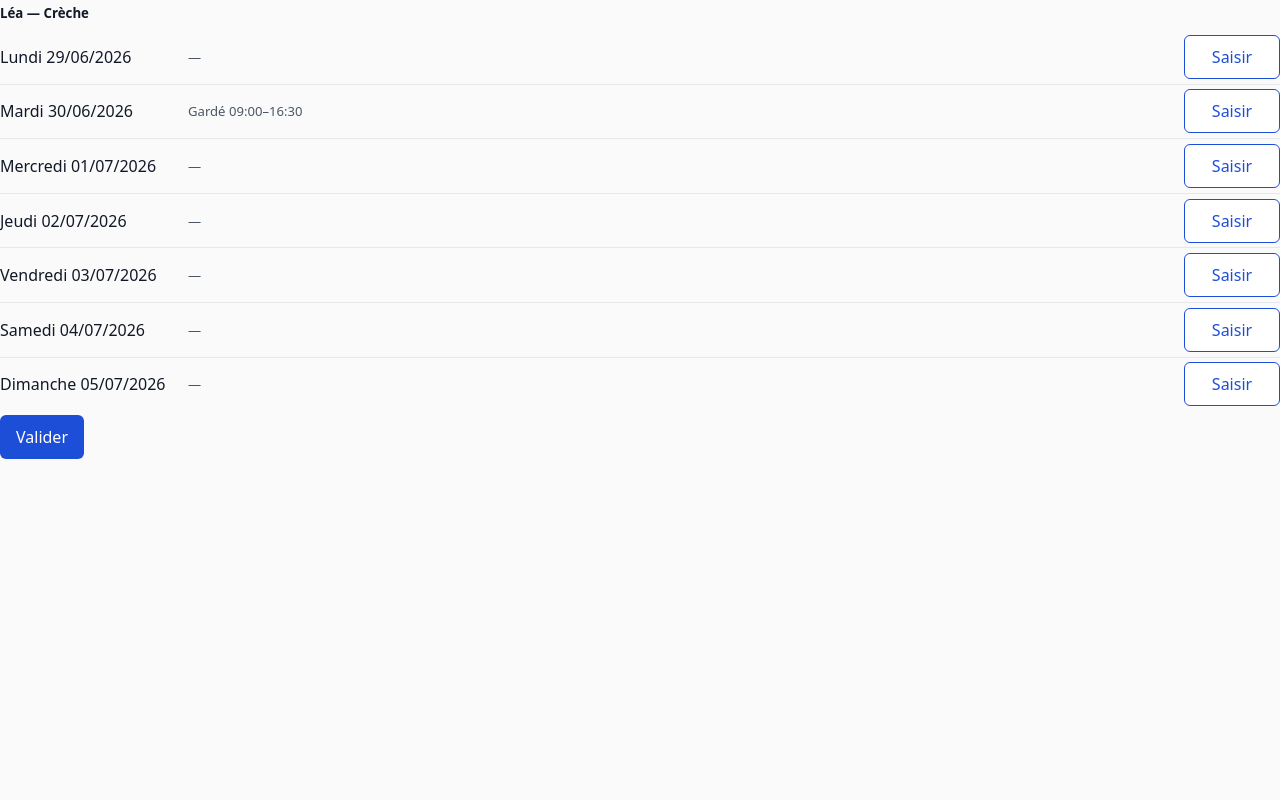
EditeurContratSemaine (crèche PSU) › « Absent toute la journée » écrit une absence pleine plage de contrat
Step 1. Click the button with aria-label "Saisir le Mardi 30/06/2026" → coordinates (1232, 111), box top-left (1184, 89), bottom-right (1279, 133)
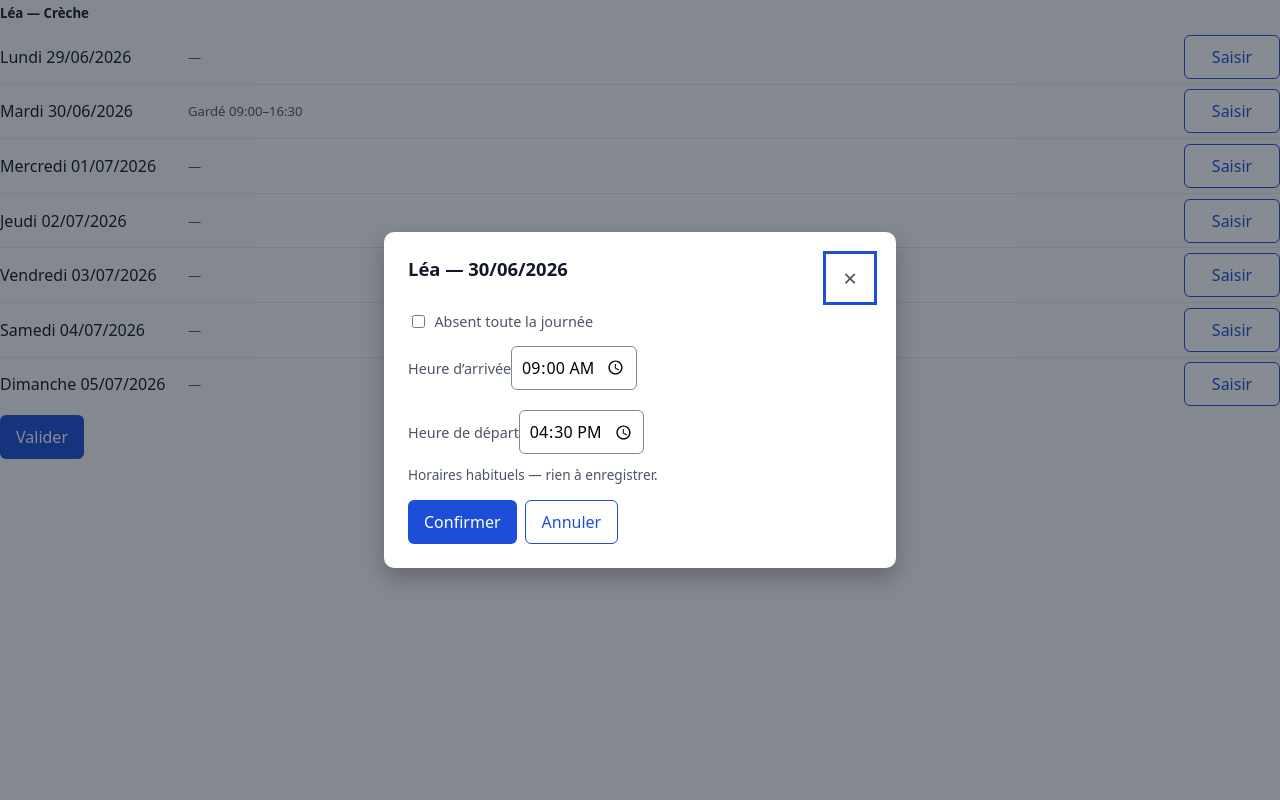
Step 2. Click the checkbox labelled "Absent toute la journée" → coordinates (418, 322), box top-left (412, 315), bottom-right (425, 328)
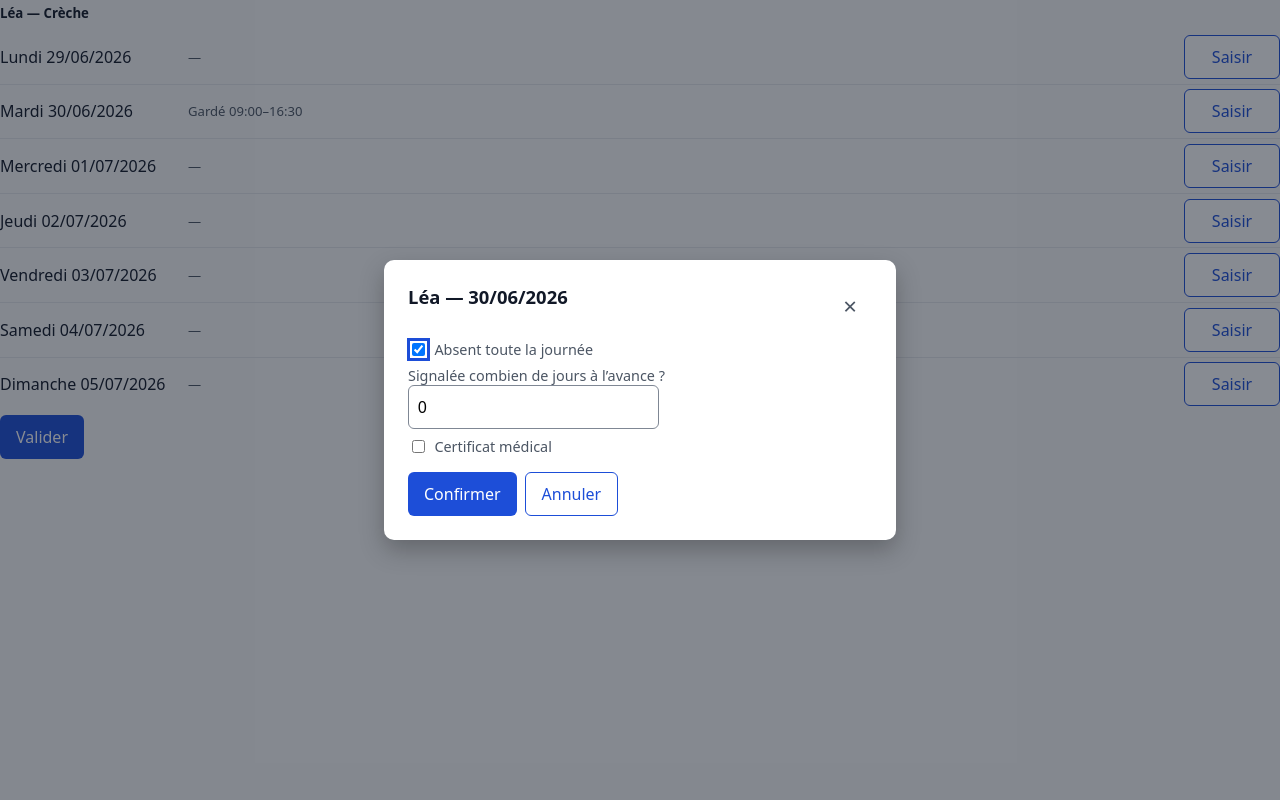
Result: the label labelled "Heure d’arrivée" is gone
Step 3. Replace the text in the number field labelled "Signalée combien de jours à l’avance ?" with "3" → coordinates (533, 407), box top-left (408, 385), bottom-right (659, 429)
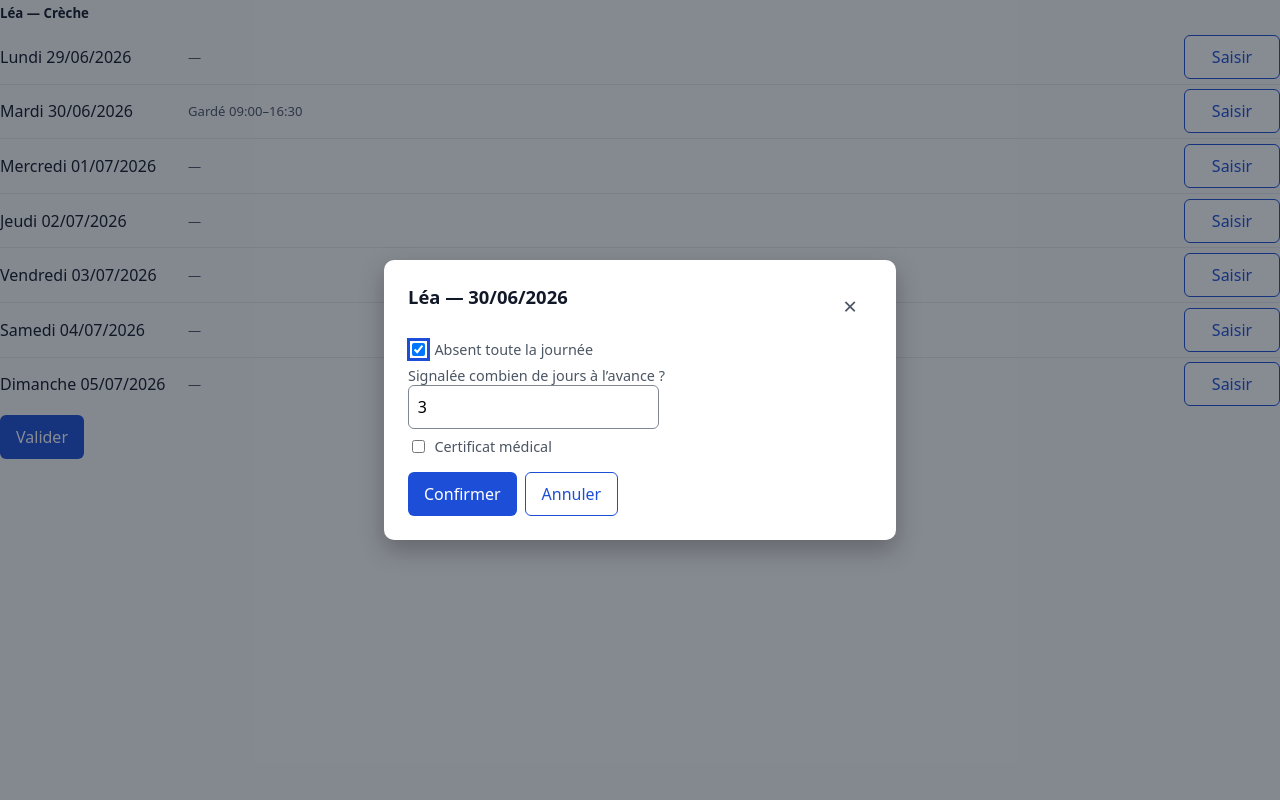
Step 4. Click the checkbox labelled "Certificat médical" → coordinates (418, 446), box top-left (412, 440), bottom-right (425, 453)
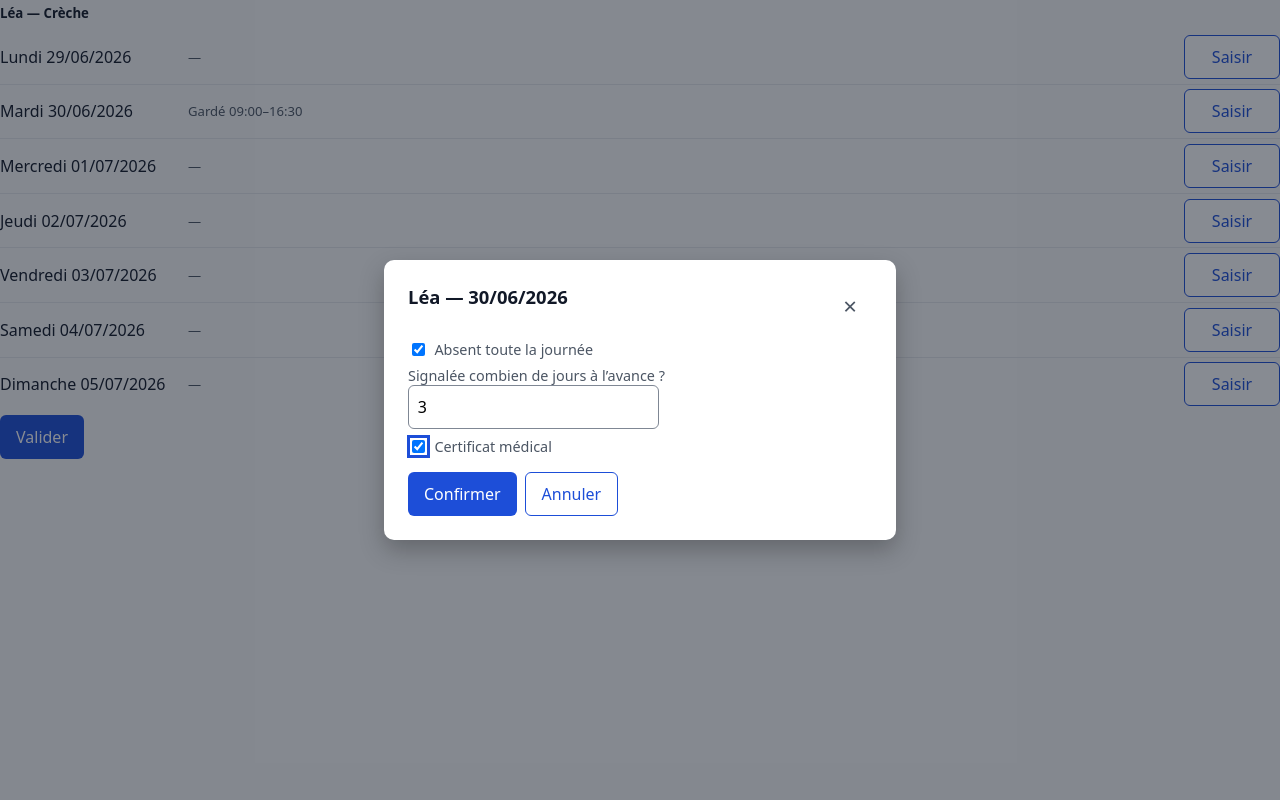
Step 5. Click the button "Confirmer" → coordinates (462, 494), box top-left (408, 472), bottom-right (516, 516)
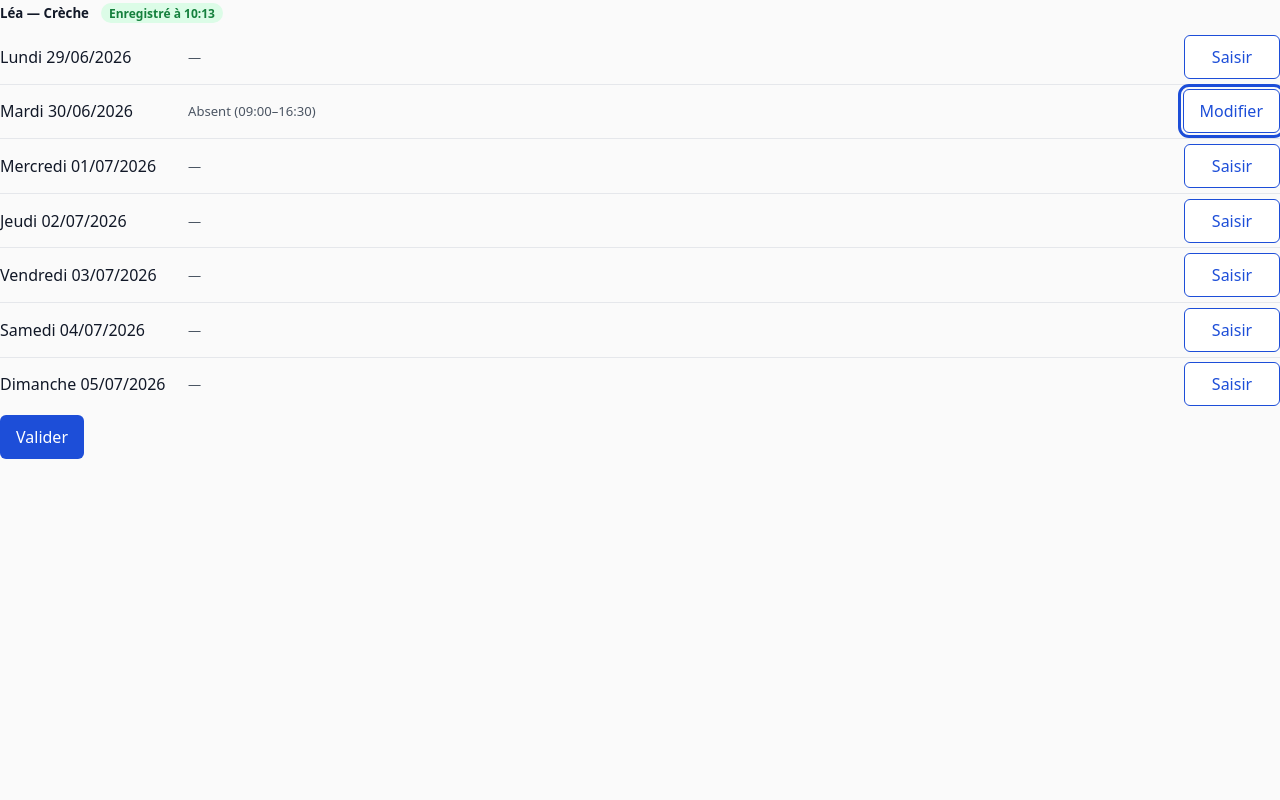
Result: the text "Absent (09:00–16:30)" is shown at top-left (188, 102), bottom-right (316, 120)
